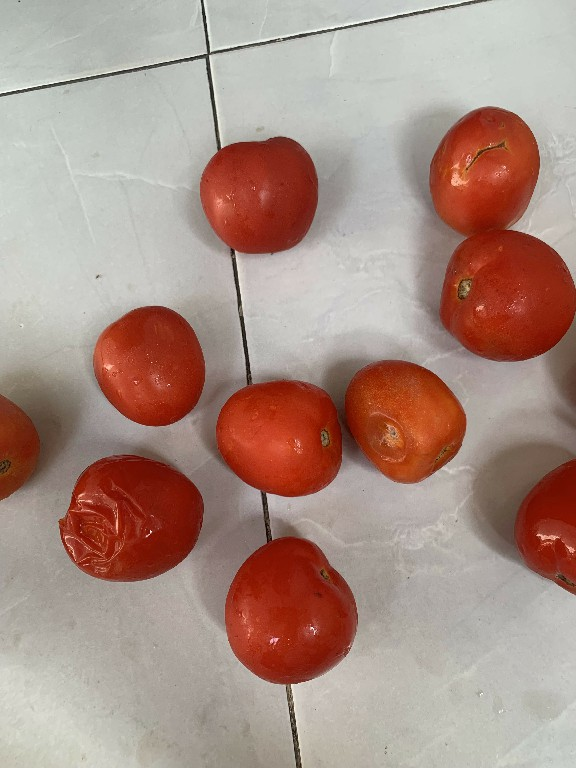NG: (51, 451, 205, 586), (342, 348, 467, 489), (420, 99, 547, 234)
OK: (216, 534, 357, 690), (434, 225, 575, 369), (194, 130, 326, 257), (210, 376, 342, 497), (87, 300, 204, 434), (509, 446, 576, 606)
